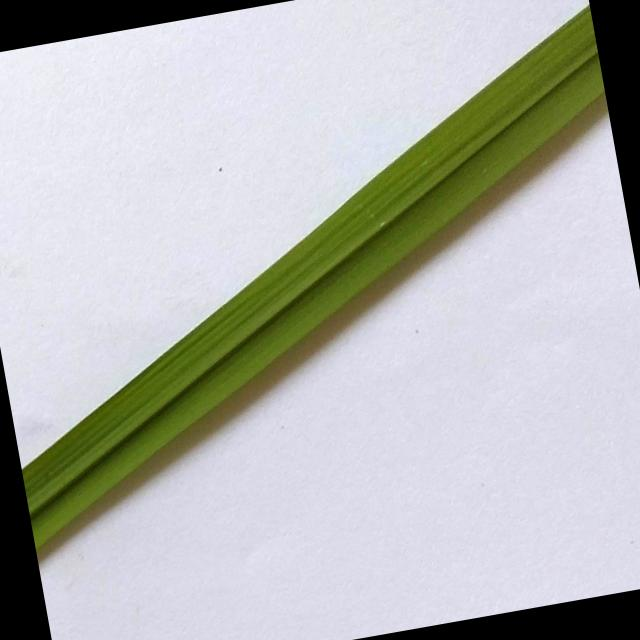Rice_Healthy: (21, 5, 604, 548)
